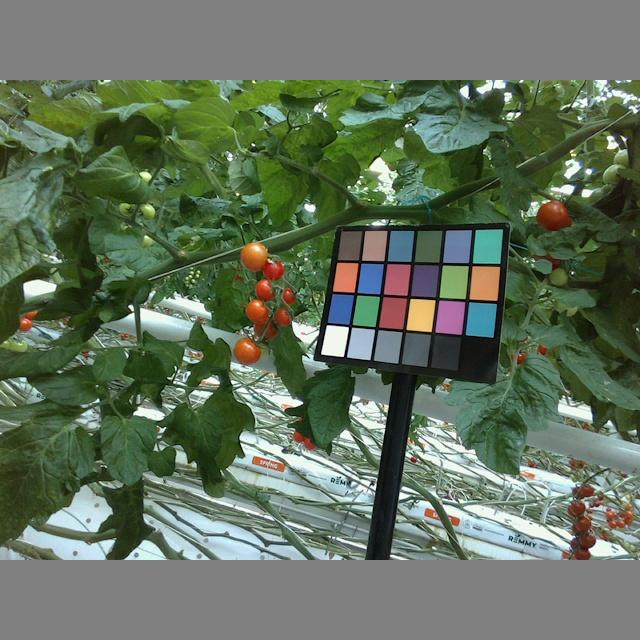pink: (239, 242, 271, 271), (235, 333, 262, 364)
red: (535, 201, 573, 234), (247, 298, 269, 323), (252, 275, 274, 299), (263, 260, 287, 281), (277, 285, 296, 306), (274, 307, 293, 326)
